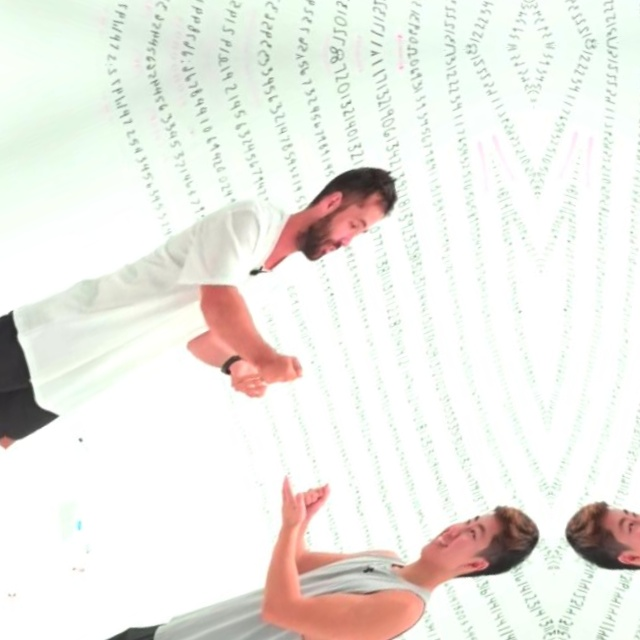Rock: (250, 345, 309, 397), (297, 478, 336, 515)
